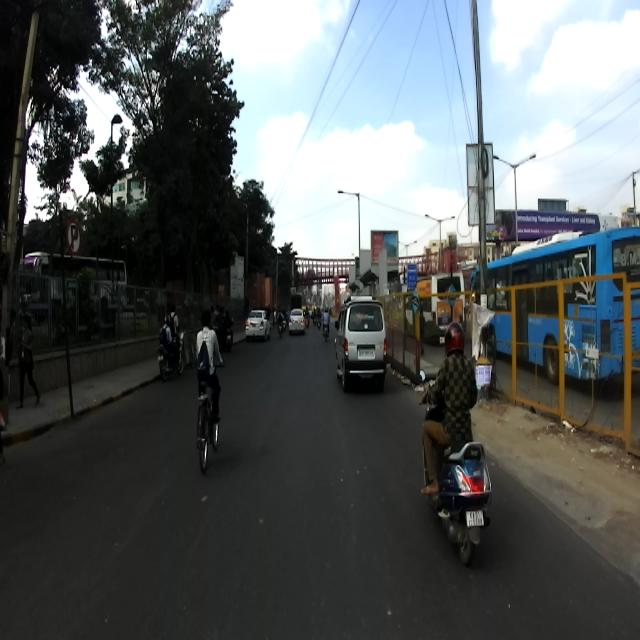bicycle ahead at: (192, 381, 227, 471)
car ahead at: (332, 290, 391, 401)
motorcycle ahead at: (416, 428, 494, 560), (154, 306, 189, 381)
